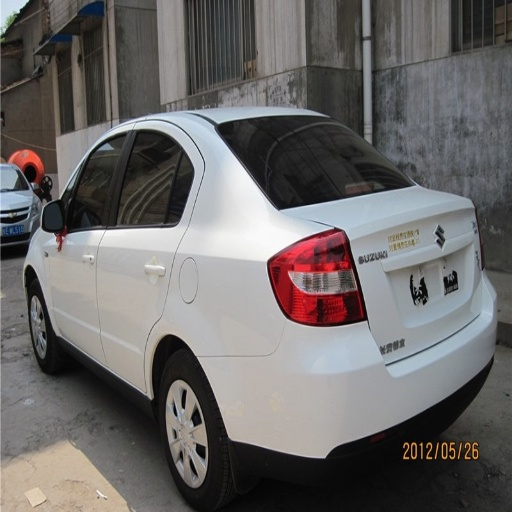back_bumper: (205, 313, 492, 498)
back_glass: (215, 117, 411, 207)
back_left_door: (98, 123, 203, 379)
